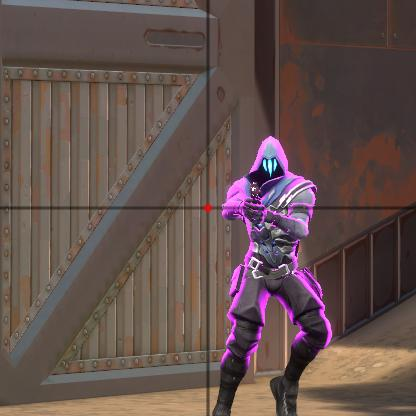enemyBody: (234, 171, 305, 301)
enemyHead: (259, 141, 282, 184)
